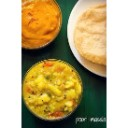poori: (77, 5, 107, 65)
